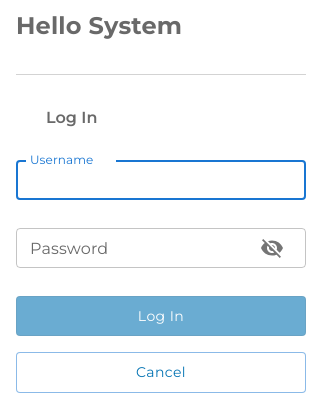
it: AuthForm › login button enabled
Type "password" into the password field labelled "Password".
click(130, 248); type("password")  # box 16,228 -> 244,268
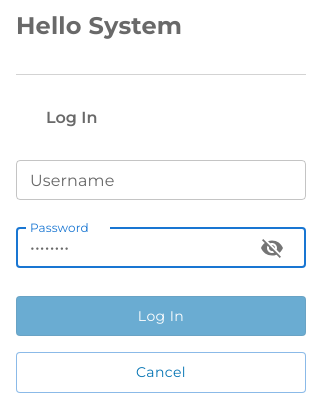
Type "username" into the field labelled "Username".
click(161, 180); type("username")  # box 16,160 -> 306,200
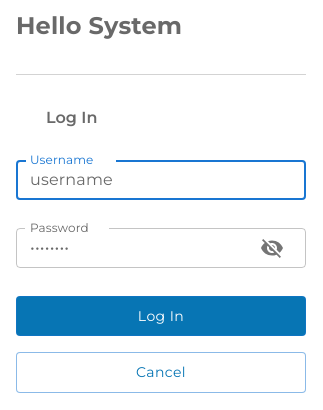
Expected: the button with test id "login-button" is enabled, 16,296 -> 306,336
